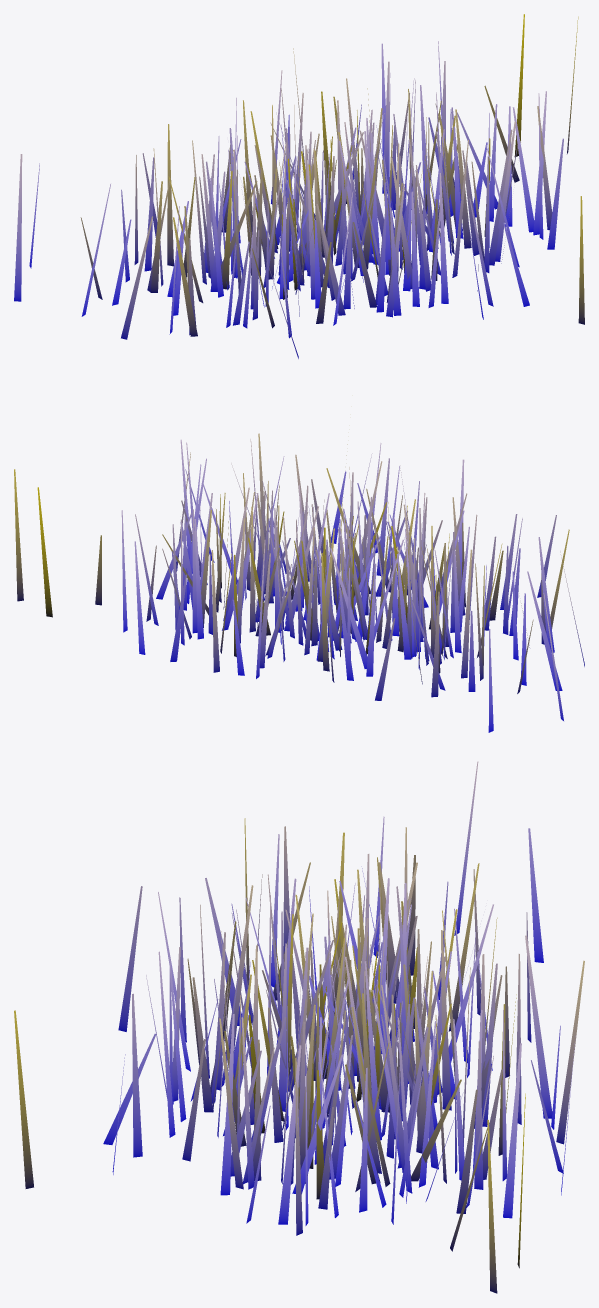
Rendered from reed_bed.glb.
3 renders of one model, top to bottom at view 1: azimuth 30°, elevation 25°; view 2: azimuth 150°, elevation 25°; view 3: azimuth 270°, elevation 25°, orthographic. The views are drawn at different scales.
Visible parts, largest first — view 1: reed_bed; view 2: reed_bed; view 3: reed_bed.
Part boxes in pixels (bbox=[...]): reed_bed: bbox=[14, 14, 584, 358]; reed_bed: bbox=[14, 433, 584, 732]; reed_bed: bbox=[14, 761, 584, 1293].
Size of what is drawn, in the model's own units: 8.97 by 2.1 by 5.92.
